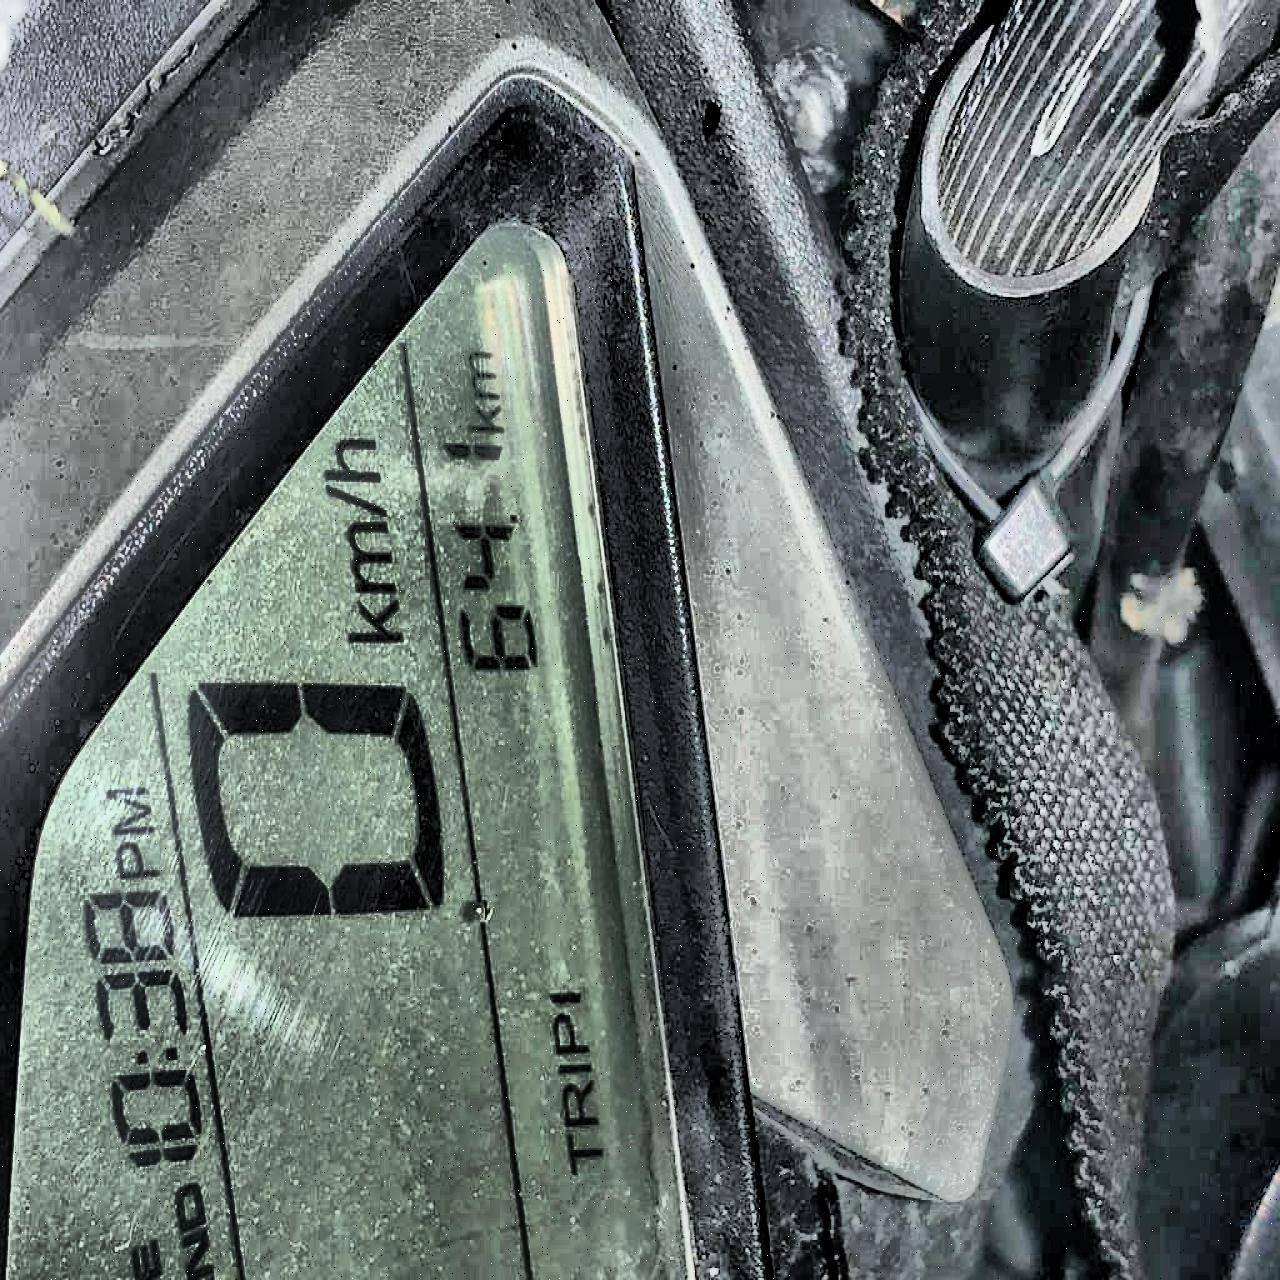-: (501, 505, 527, 523)
0: (188, 666, 447, 921), (109, 1068, 200, 1142)
1: (120, 1141, 203, 1172), (436, 438, 509, 467), (542, 983, 592, 1003)
3: (87, 964, 191, 1040)
4: (451, 520, 513, 590)
6: (454, 601, 540, 672)
8: (79, 885, 183, 961)
X: (349, 519, 395, 593), (320, 435, 379, 481), (345, 597, 404, 641), (104, 783, 154, 835), (321, 482, 387, 516), (547, 1010, 593, 1055), (113, 842, 163, 881), (560, 1078, 599, 1129), (173, 1175, 206, 1233), (564, 1131, 605, 1177), (182, 1224, 213, 1276), (467, 347, 498, 399), (127, 1237, 164, 1279), (464, 403, 504, 434), (132, 1042, 178, 1065), (551, 1061, 595, 1077)
odometer: (14, 190, 710, 1279)
